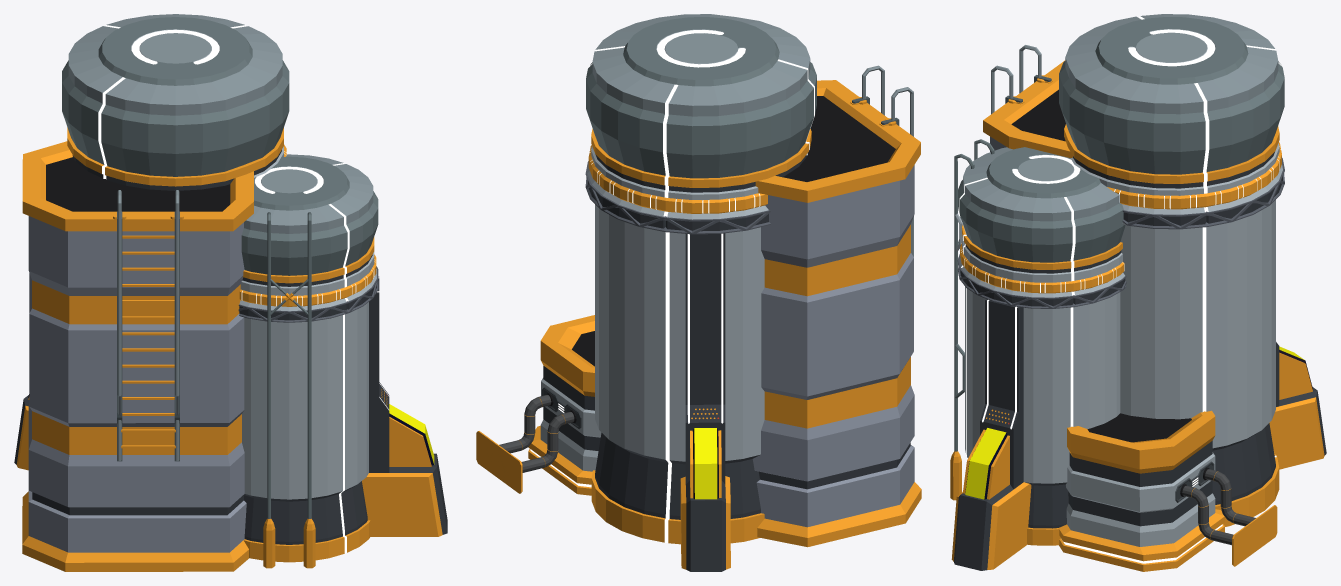
File: SM_Water_Supply_For_Type_01.glb
3 renders of one model, left to right at view 1: azimuth 30°, elevation 25°; view 2: azimuth 150°, elevation 25°; view 3: azimuth 270°, elevation 25°, orthographic. The views are drawn at different scales.
Visible parts, largest first — view 1: SM_Water_Supply_For_Type_01; view 2: SM_Water_Supply_For_Type_01; view 3: SM_Water_Supply_For_Type_01.
Boxes of the visible parts, x1=… form: SM_Water_Supply_For_Type_01: x1=14, y1=14, x2=447, y2=571; SM_Water_Supply_For_Type_01: x1=476, y1=14, x2=921, y2=571; SM_Water_Supply_For_Type_01: x1=950, y1=14, x2=1326, y2=571.
Size of the model in its own units: 5.28 by 6.09 by 4.72.
4 materials, 3 textured.
